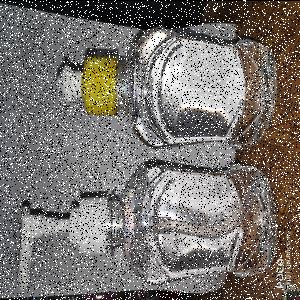Plastic-bottle: (57, 21, 279, 153), (76, 159, 281, 287)
